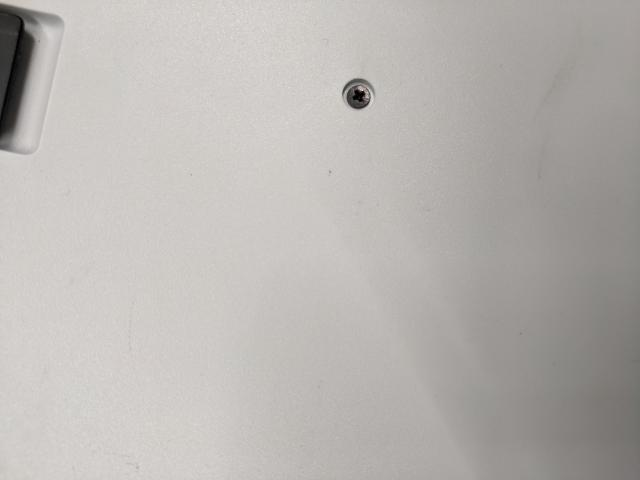CRS: (346, 86, 372, 108)
